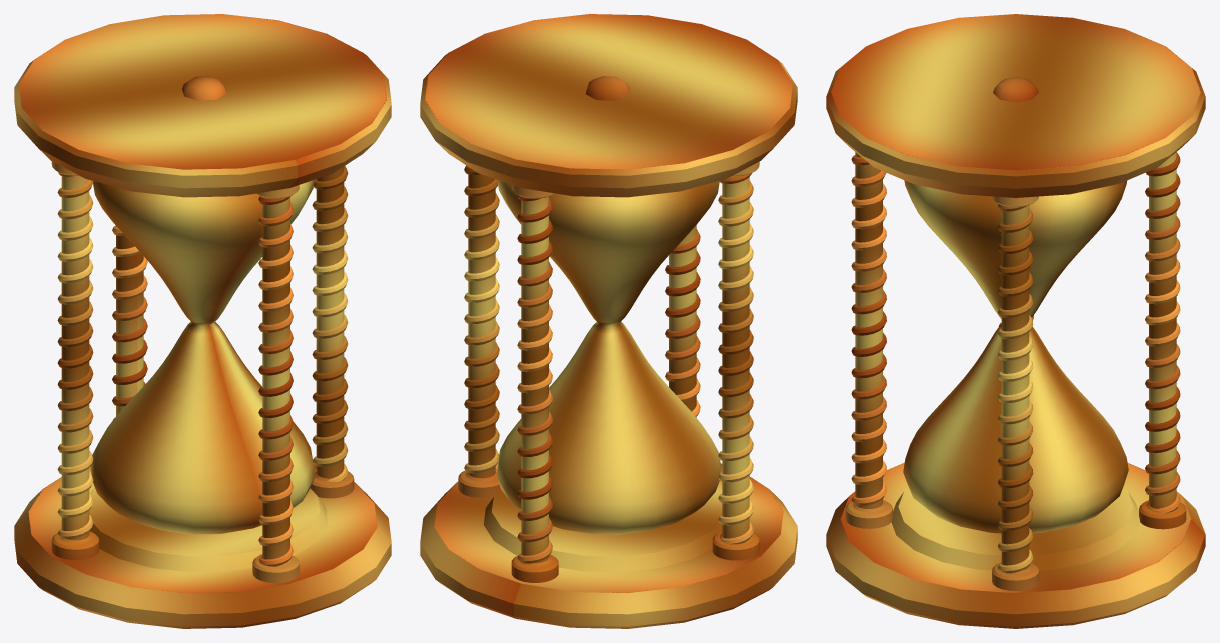
File: HourGlass001.fbx
3 renders of one model, left to right at view 1: azimuth 30°, elevation 25°; view 2: azimuth 150°, elevation 25°; view 3: azimuth 270°, elevation 25°, orthographic.
Parts seen in each view (by area): view 1: polySurface1; view 2: polySurface1; view 3: polySurface1.
Part boxes in pixels (x1=…): polySurface1: x1=14, y1=14, x2=391, y2=628; polySurface1: x1=420, y1=14, x2=797, y2=628; polySurface1: x1=826, y1=14, x2=1205, y2=628.
Size of the model in its own units: 18.99 by 26.04 by 18.99.
